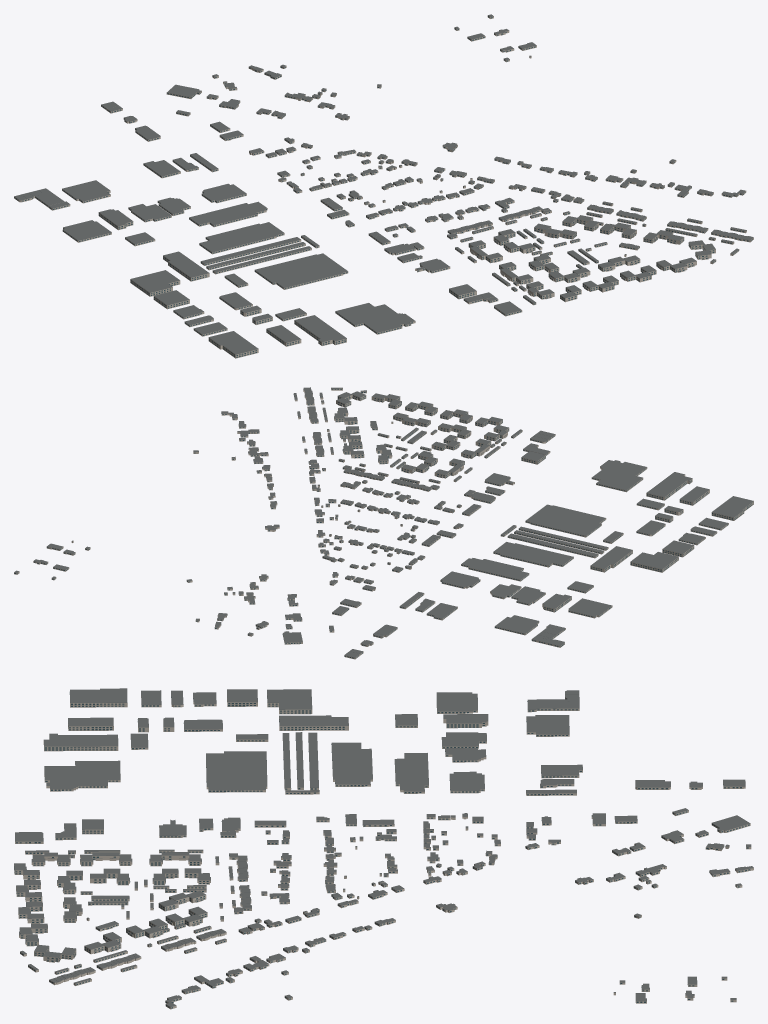
3 renders of one model, top to bottom at view 1: azimuth 30°, elevation 25°; view 2: azimuth 150°, elevation 25°; view 3: azimuth 270°, elevation 25°, orthographic. The views are drawn at different scales.
Visible parts, largest first — view 1: Buildings (-1, -3) Roof membrane, Buildings (-1, -3) Masonry brick, Buildings (-1, -3) Architectural tinted glass, Buildings (-1, -3) Metal coping; view 2: Buildings (-1, -3) Roof membrane, Buildings (-1, -3) Masonry brick, Buildings (-1, -3) Architectural tinted glass, Buildings (-1, -3) Metal coping; view 3: Buildings (-1, -3) Roof membrane, Buildings (-1, -3) Masonry brick, Buildings (-1, -3) Architectural tinted glass, Buildings (-1, -3) Metal coping.
Part boxes in pixels (left/top/right/bottom): Buildings (-1, -3) Roof membrane: left=14, top=14, right=753, bottom=354; Buildings (-1, -3) Masonry brick: left=14, top=15, right=753, bottom=358; Buildings (-1, -3) Architectural tinted glass: left=14, top=16, right=752, bottom=357; Buildings (-1, -3) Metal coping: left=14, top=15, right=750, bottom=354; Buildings (-1, -3) Roof membrane: left=14, top=387, right=753, bottom=657; Buildings (-1, -3) Masonry brick: left=14, top=388, right=753, bottom=659; Buildings (-1, -3) Architectural tinted glass: left=14, top=389, right=753, bottom=658; Buildings (-1, -3) Metal coping: left=40, top=387, right=700, bottom=652; Buildings (-1, -3) Roof membrane: left=14, top=688, right=753, bottom=1006; Buildings (-1, -3) Masonry brick: left=14, top=694, right=753, bottom=1009; Buildings (-1, -3) Architectural tinted glass: left=14, top=692, right=750, bottom=1008; Buildings (-1, -3) Metal coping: left=14, top=688, right=753, bottom=999.
Size of the model in its own units: 1017 by 12.2 by 1009.
